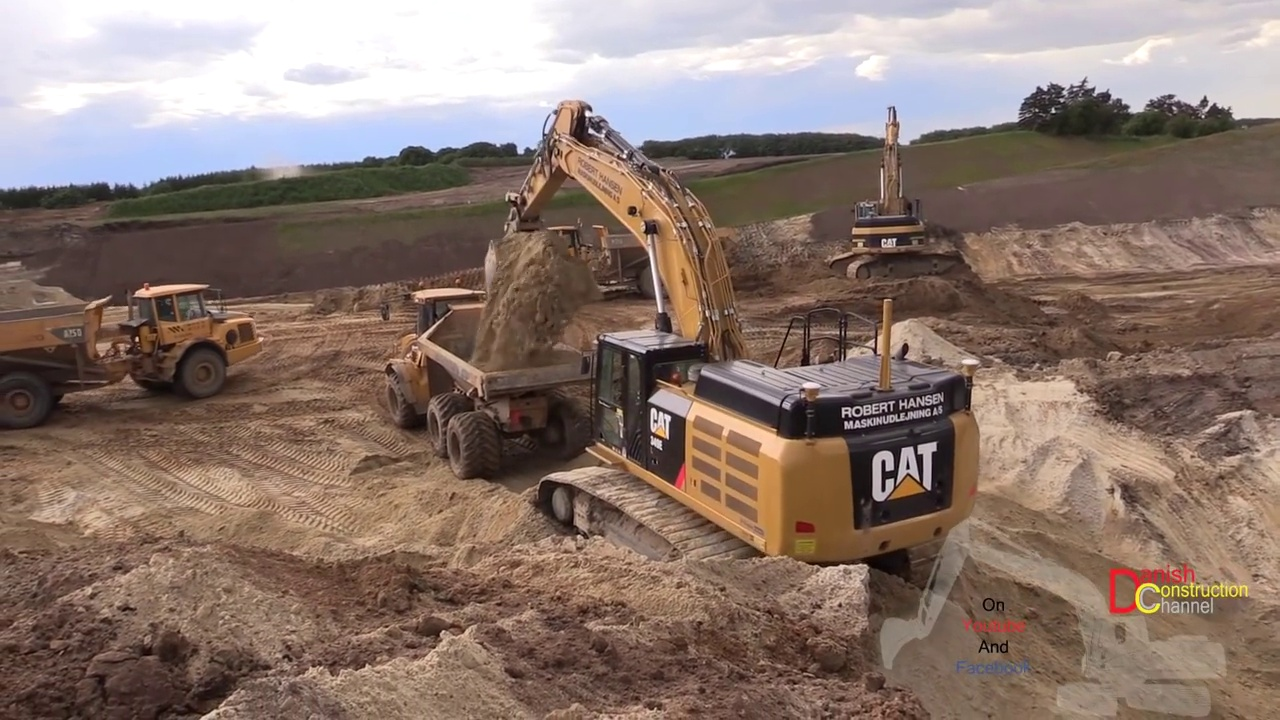dumper: (383, 286, 584, 480), (4, 279, 263, 423)
excavator: (486, 97, 984, 628), (830, 103, 968, 278)
